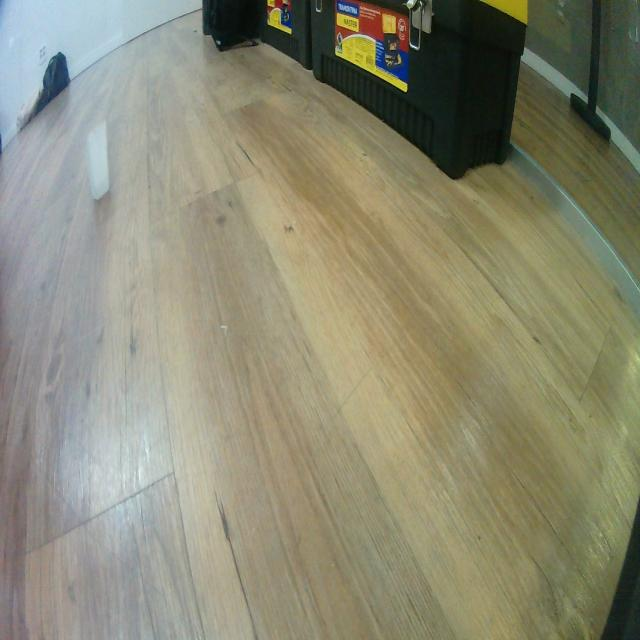erva_daninha: (82, 124, 110, 201)
